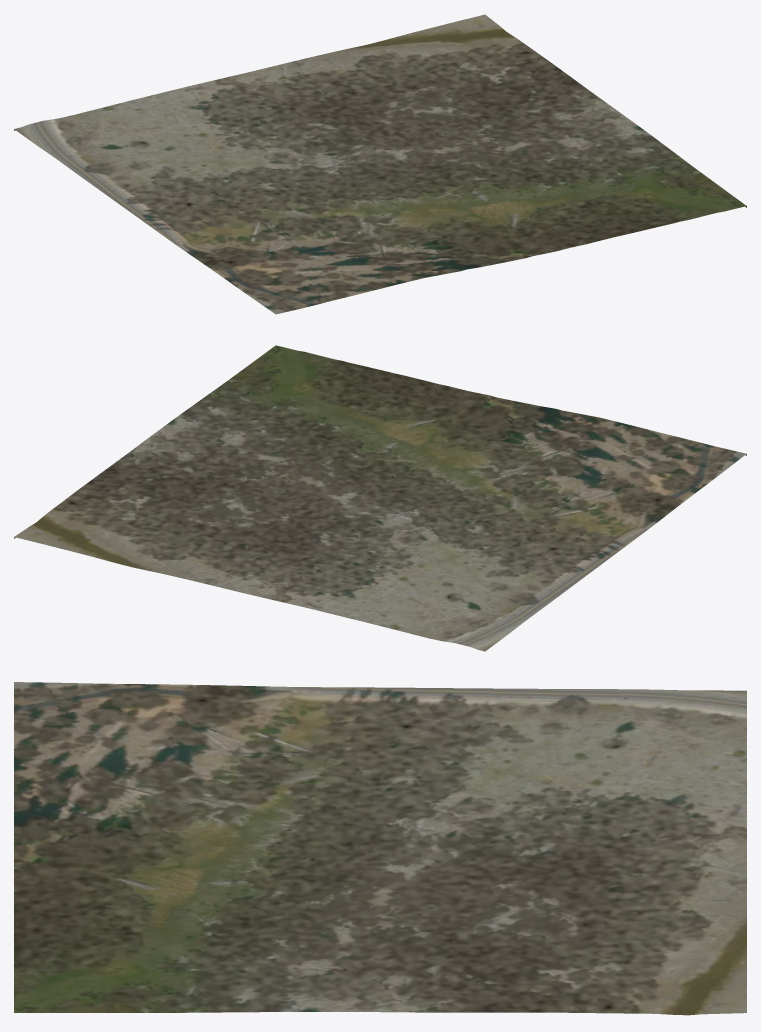
The picture shows the model from 3 angles, top to bottom: view 1: azimuth 30°, elevation 25°; view 2: azimuth 150°, elevation 25°; view 3: azimuth 270°, elevation 25°; orthographic projection. The views are drawn at different scales.
Bounding box in the file's own units: 250 × 5.27 × 241.
1 material, 1 textured.
